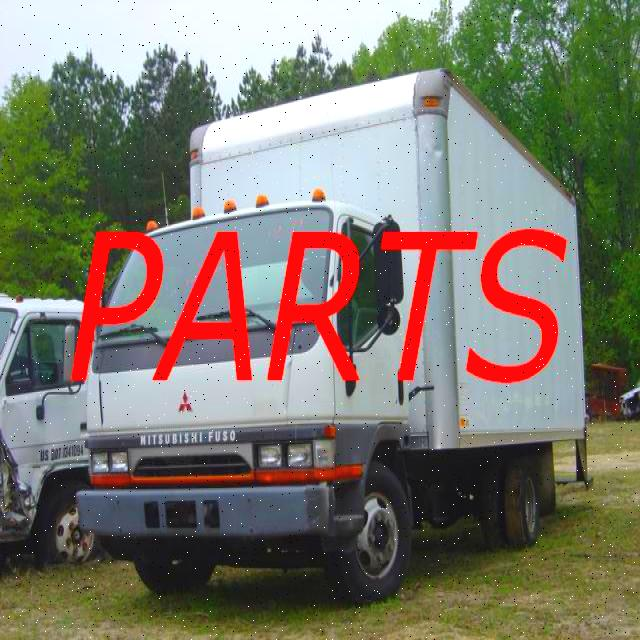truck: (79, 67, 586, 596)
